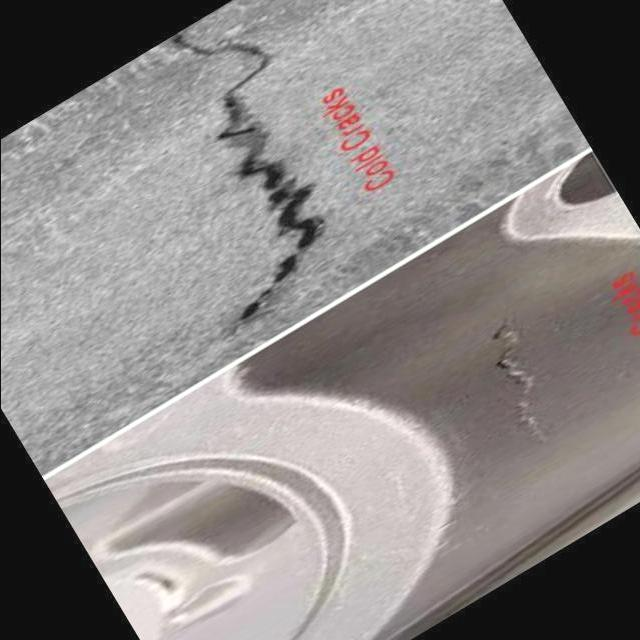defect: (161, 29, 332, 336), (482, 306, 554, 451)
